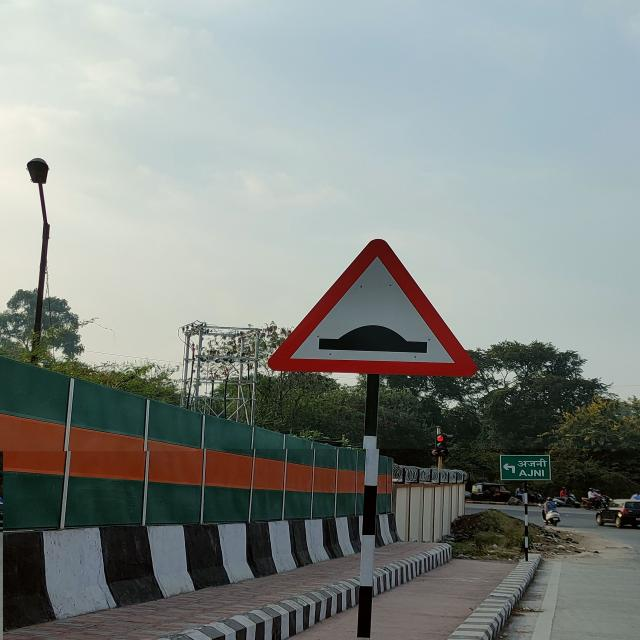HUMP_OR_ROUGH_ROAD: (268, 239, 476, 377)
